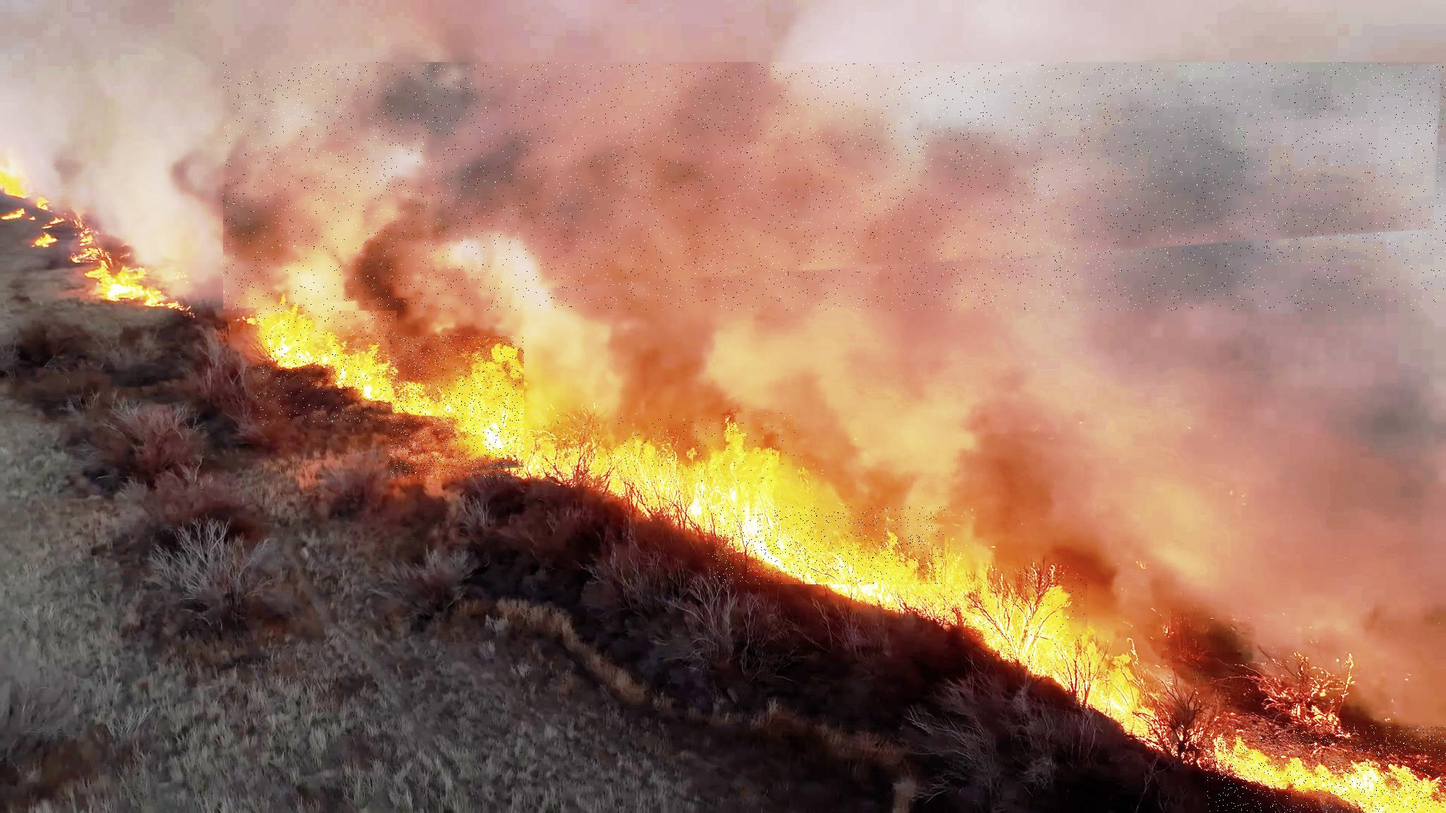fire: (1207, 725, 1446, 813), (388, 336, 524, 479), (531, 413, 795, 483), (706, 507, 945, 584), (257, 311, 397, 425), (963, 573, 1087, 659)
smoke: (223, 62, 1446, 310)
